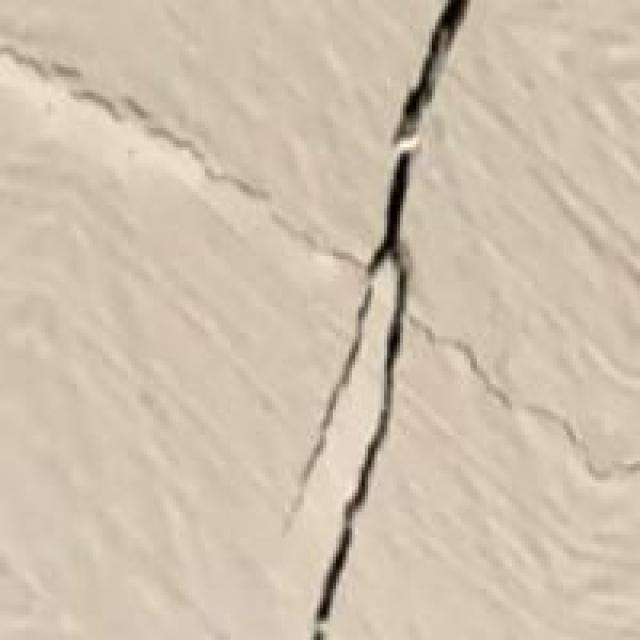crack: (252, 0, 490, 637)
